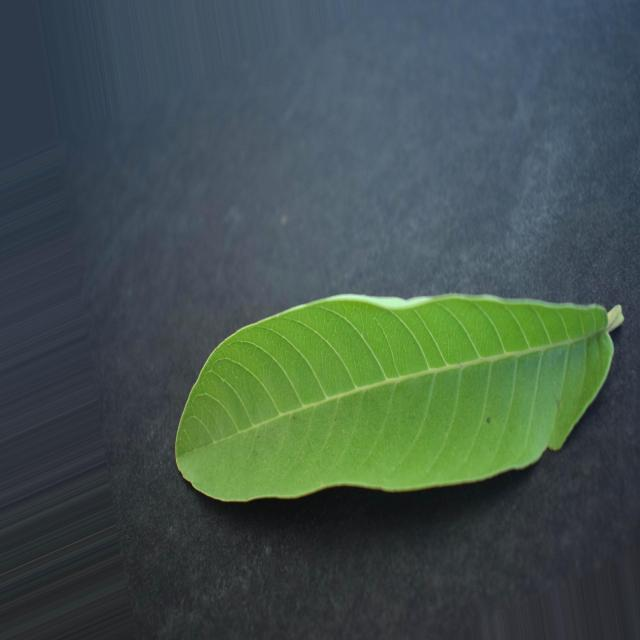Healthy: (175, 294, 624, 501)
